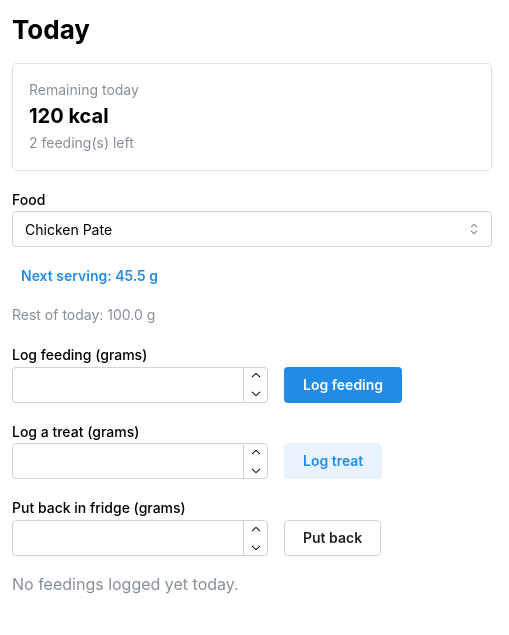
Test: TodayScreen › logs a put-back and clears the input on success
expect the text "120 kcal" is shown: met, box 29,104 -> 109,128
In the field labelled "Put back in fridge (grams)": (140, 538) 12,520 -> 268,556, type "7"
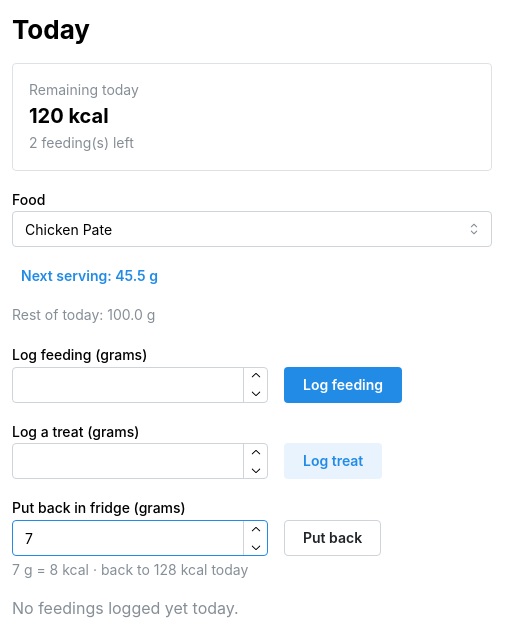
Click the button "Put back": (333, 538) 284,520 -> 381,556
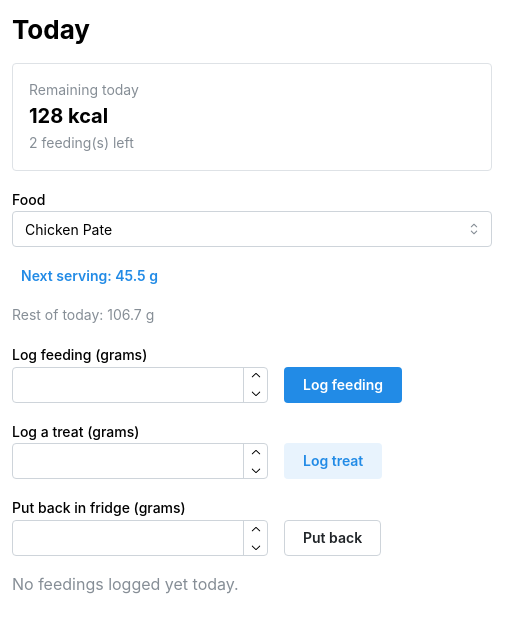
expect the text "128 kcal" is shown: met, box 29,104 -> 108,128
expect the field labelled "Put back in fridge (grams)" is empty: met, box 12,520 -> 268,556
